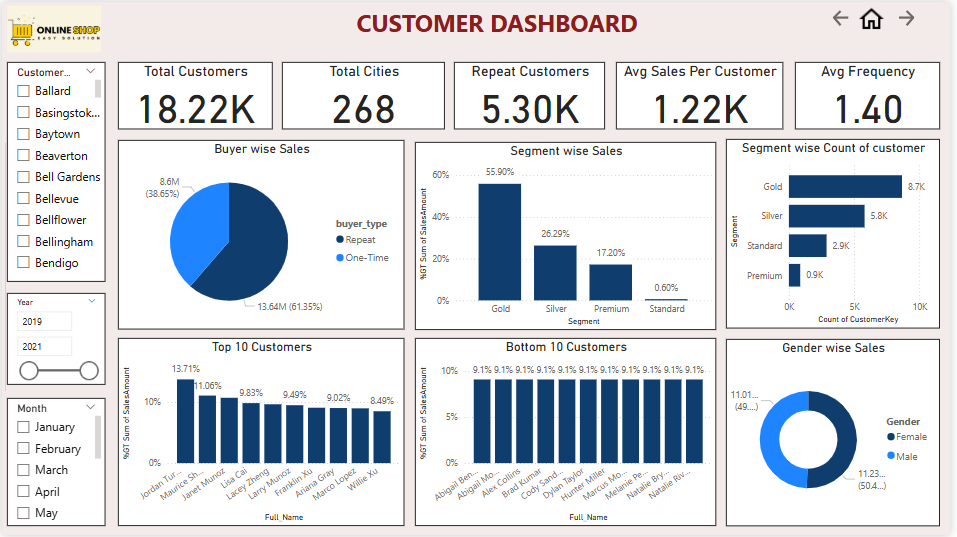

This screenshot's page, from the dashboard's own definition file:
{"tool":"powerbi","page":{"name":"Customer_Dashboard","canvas":[1280,720],"ordinal":2},"visuals":[{"type":"card","title":"Total Customers","fields":{"Values":["Sales_table.CustomerKey"]},"box":[157.1,81.4,208.6,91.4],"z":0},{"type":"card","title":"Total Cities","fields":{"Values":["Sales_table.Customer_City"]},"box":[378.6,81.4,220,91.4],"z":1000},{"type":"card","title":"Repeat Customers","fields":{"Values":["Sales_table.Repeat_Buyers"]},"box":[611.4,81.4,204.3,91.4],"z":2000},{"type":"card","title":"Avg Sales Per Customer","fields":{"Values":["Sales_table.Avg_Sales"]},"box":[830,81.4,225.7,91.4],"z":3000},{"type":"card","title":"Avg Frequency ","fields":{"Values":["Sales_table.Avg_frequency"]},"box":[1071.4,81.4,195.7,91.4],"z":4000},{"type":"pieChart","title":"Buyer wise Sales","fields":{"Category":["Sales_table.buyer_type"],"Y":["Sales_table.Total Sales"]},"box":[157.1,187.1,387.1,255.7],"z":5000},{"type":"donutChart","title":"Gender wise Sales","fields":{"Category":["Sales_table.Gender"],"Y":["Sales_table.SalesAmount"]},"box":[978.6,455.7,288.6,252.9],"z":6000},{"type":"clusteredColumnChart","title":"Top 10 Customers","fields":{"Category":["Sales_table.Full_Name"],"Y":["Sales_table.SalesAmount"]},"box":[157.1,454.3,387.1,254.3],"z":7000},{"type":"lineClusteredColumnComboChart","title":"Segment wise Sales","fields":{"Category":["Sales_table.Segment"],"Y":["Sales_table.SalesAmount"]},"box":[558.6,188.6,407.1,254.3],"z":8000},{"type":"slicer","fields":{"Values":["Sales_table.Customer_City"]},"box":[7.1,81.4,132.9,297.1],"z":9000},{"type":"slicer","fields":{"Values":["Sales_table.DIM_Calendar.Date.Variation.Date Hierarchy.Year"]},"box":[7.1,392.9,132.9,124.3],"z":10000},{"type":"slicer","fields":{"Values":["Sales_table.DIM_Calendar.Date.Variation.Date Hierarchy.Month"]},"box":[7.1,535.7,132.9,172.9],"z":11000},{"type":"clusteredBarChart","title":"Segment wise Count of customer","fields":{"Category":["Sales_table.Segment"],"Y":["Sales_table.CustomerKey"]},"box":[978.6,185.7,288.6,255.7],"z":12000},{"type":"textbox","box":[268.5,0,800,56.5],"z":13000},{"type":"clusteredColumnChart","title":"Bottom 10 Customers","fields":{"Category":["Sales_table.Full_Name"],"Y":["Sales_table.SalesAmount"]},"box":[558.6,454.3,407.1,254.3],"z":14000},{"type":"image","box":[1146.2,0,57.6,46.1],"z":15000},{"type":"actionButton","box":[1118.9,7.2,36,30.2],"z":16000},{"type":"actionButton","box":[1206.7,7.2,44.6,30.2],"z":17000},{"type":"image","box":[0,0,140,72.9],"z":18000}]}

Visuals, with their boxes in screenshot pixels (x1, y1, x2, y2), scaled from the page's 1280x720 canvas onto the 957x537 screenshot:
"Total Customers" card: bbox=[117, 61, 273, 129]
"Total Cities" card: bbox=[283, 61, 448, 129]
"Repeat Customers" card: bbox=[457, 61, 610, 129]
"Avg Sales Per Customer" card: bbox=[621, 61, 789, 129]
"Avg Frequency " card: bbox=[801, 61, 947, 129]
"Buyer wise Sales" pieChart: bbox=[117, 140, 407, 330]
"Gender wise Sales" donutChart: bbox=[732, 340, 947, 528]
"Top 10 Customers" clusteredColumnChart: bbox=[117, 339, 407, 528]
"Segment wise Sales" lineClusteredColumnComboChart: bbox=[418, 141, 722, 330]
slicer - Sales_table.Customer_City: bbox=[5, 61, 105, 282]
slicer - Sales_table.DIM_Calendar.Date.Variation.Date Hierarchy.Year: bbox=[5, 293, 105, 386]
slicer - Sales_table.DIM_Calendar.Date.Variation.Date Hierarchy.Month: bbox=[5, 400, 105, 528]
"Segment wise Count of customer" clusteredBarChart: bbox=[732, 139, 947, 329]
textbox: bbox=[201, 0, 799, 42]
"Bottom 10 Customers" clusteredColumnChart: bbox=[418, 339, 722, 528]
image: bbox=[857, 0, 900, 34]
actionButton: bbox=[837, 5, 863, 28]
actionButton: bbox=[902, 5, 936, 28]
image: bbox=[0, 0, 105, 54]
